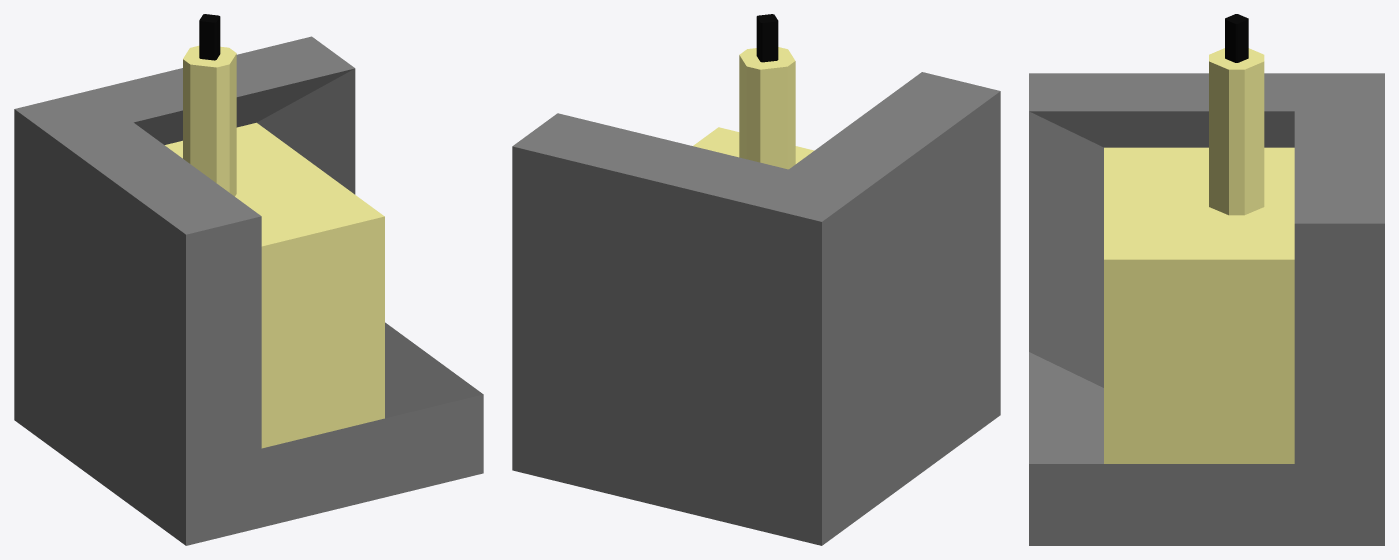
File: Candle.fbx
The picture shows the model from 3 angles, left to right: view 1: azimuth 30°, elevation 25°; view 2: azimuth 150°, elevation 25°; view 3: azimuth 270°, elevation 25°; orthographic projection. The views are drawn at different scales.
Visible parts, largest first — view 1: Cube; view 2: Cube; view 3: Cube.
Boxes of the visible parts, x1,y1,x2,y2 form: Cube: (14,14,483,545); Cube: (512,14,1000,545); Cube: (1029,14,1384,545).
Bounding box in the file's own units: 200 × 272 × 200.
